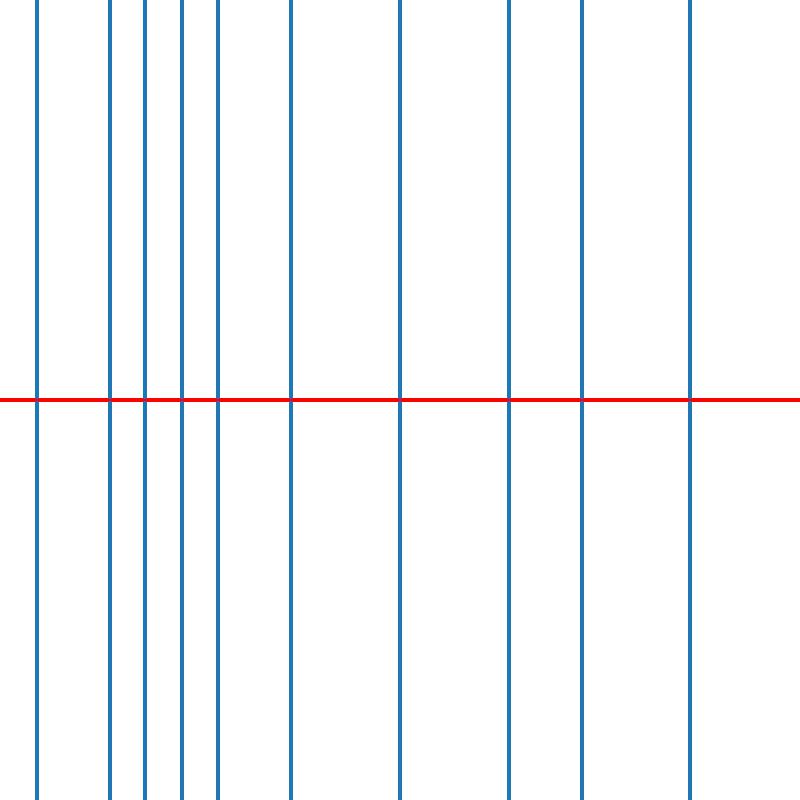root: (141, 396, 149, 404), (32, 396, 40, 404), (505, 396, 512, 404), (178, 396, 185, 404), (396, 396, 403, 404), (214, 396, 221, 404), (687, 396, 694, 404), (578, 396, 585, 404), (105, 396, 112, 404), (287, 396, 294, 404)
